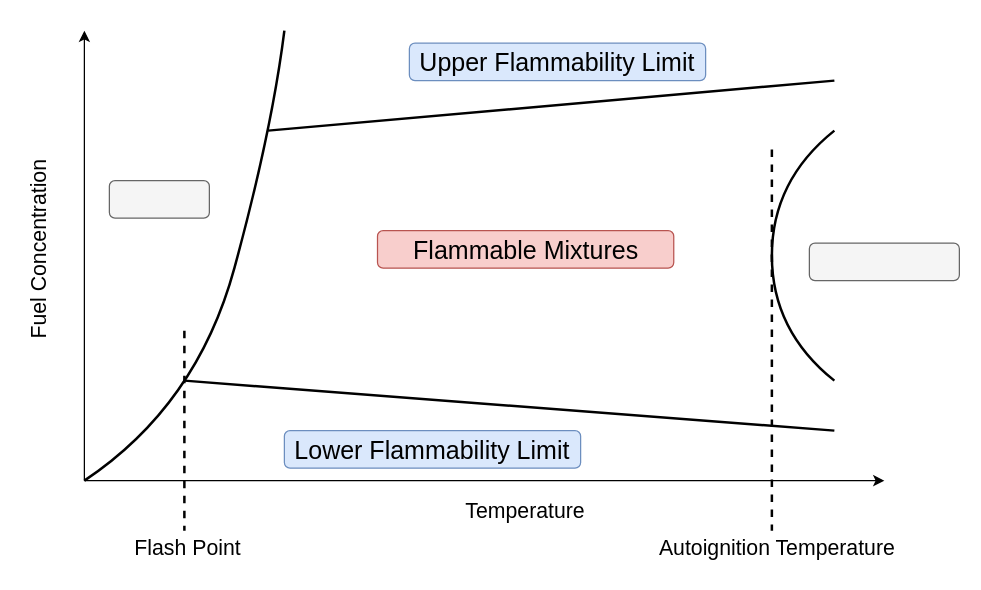
Some shapes in this 981 by 590 pixel diagram are drawn without their labels. Each missing label, with the centre of its shape:
Autoignition: point (883, 261)
Mist: point (158, 198)
